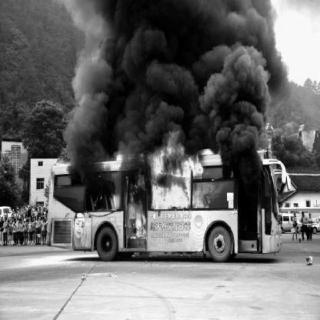Fire: (115, 141, 199, 229)
Smoke: (63, 2, 287, 142)
